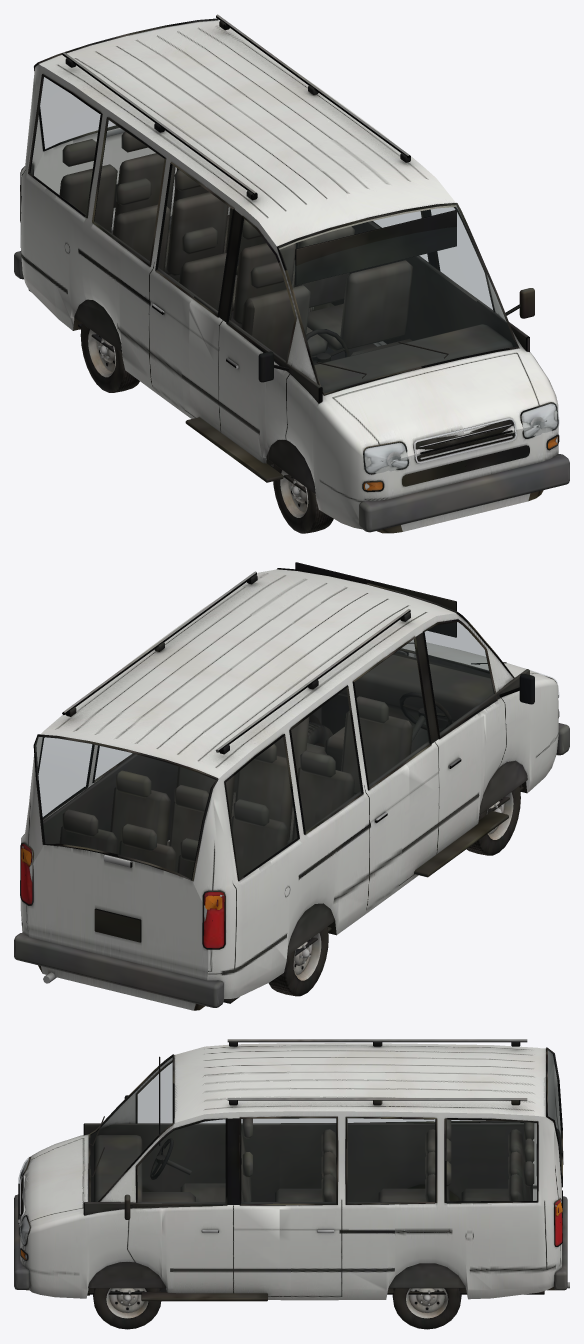
Rendered from microbus.glb.
The picture shows the model from 3 angles, top to bottom: view 1: azimuth 30°, elevation 25°; view 2: azimuth 150°, elevation 25°; view 3: azimuth 270°, elevation 25°; orthographic projection. The views are drawn at different scales.
Visible parts, largest first — view 1: body, glass, door_D, door_D_glass, door_PL, wheel_RR, wheel_FR, door_PL_glass; view 2: body, glass, door_D, door_D_glass, wheel_RR, wheel_FR; view 3: body, glass, door_PL, door_PL_glass, door_D, wheel_RL, wheel_FL, door_D_glass.
Boxes of the visible parts, <box> form: body: <box>14,14,569,533</box>; glass: <box>30,77,558,473</box>; door_D: <box>189,230,283,459</box>; door_D_glass: <box>194,212,281,350</box>; door_PL: <box>401,209,478,340</box>; wheel_RR: <box>80,323,139,392</box>; wheel_FR: <box>273,464,333,533</box>; door_PL_glass: <box>401,208,478,298</box>; body: <box>14,562,569,1010</box>; glass: <box>36,622,557,878</box>; door_D: <box>399,620,484,869</box>; door_D_glass: <box>393,625,478,761</box>; wheel_RR: <box>268,927,328,996</box>; wheel_FR: <box>466,786,520,855</box>; body: <box>14,1039,569,1301</box>; glass: <box>18,1050,561,1245</box>; door_PL: <box>162,1133,279,1288</box>; door_PL_glass: <box>162,1134,278,1204</box>; door_D: <box>162,1064,279,1201</box>; wheel_RL: <box>392,1288,461,1329</box>; wheel_FL: <box>93,1288,161,1329</box>; door_D_glass: <box>162,1065,278,1122</box>.
Bounding box in the file's own units: 2.15 × 2.13 × 4.83.
2 materials, 1 textured.
